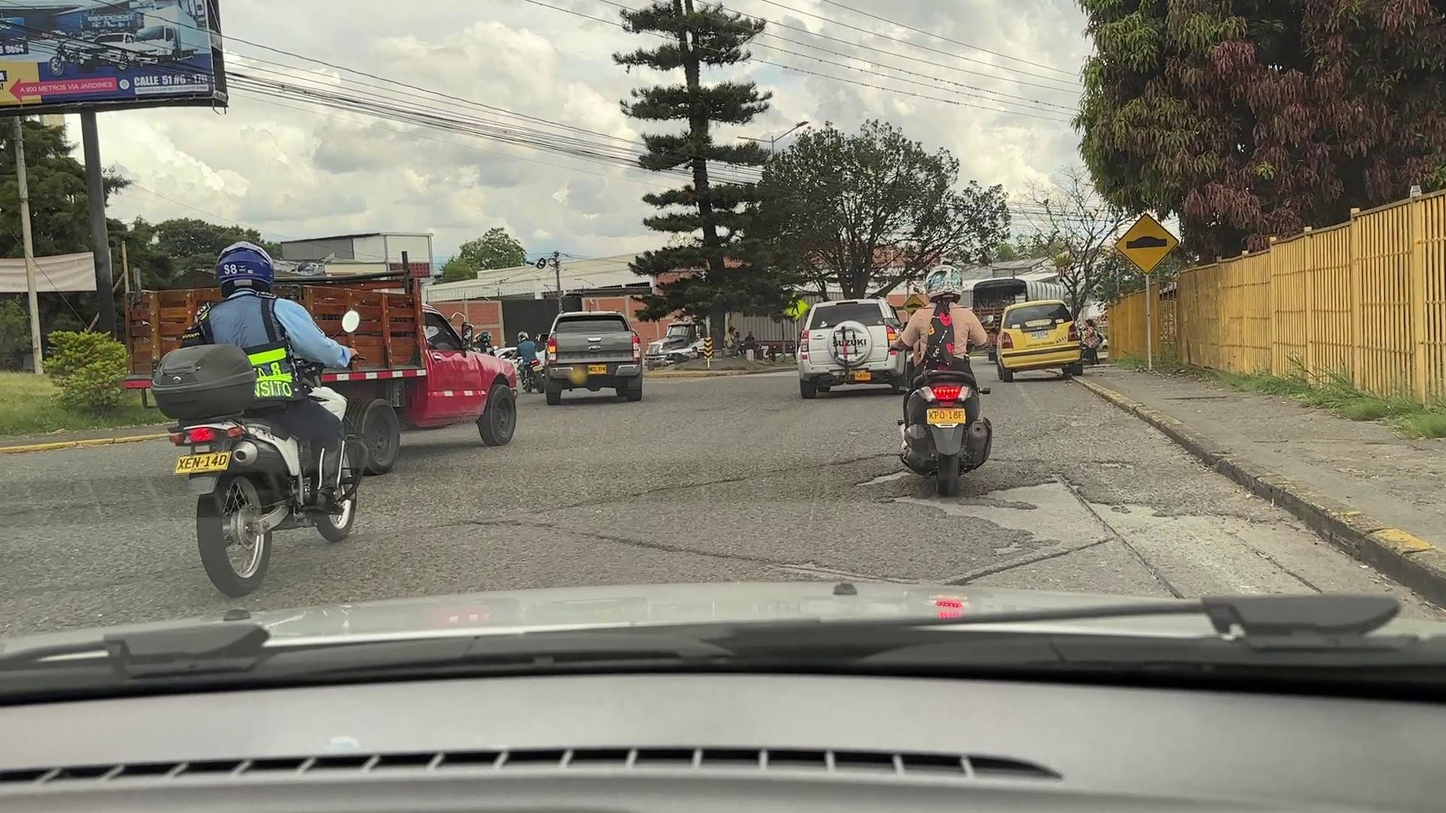bache: (886, 477, 1178, 585), (857, 470, 910, 486), (1096, 460, 1135, 467)
grieta: (576, 533, 777, 564)
